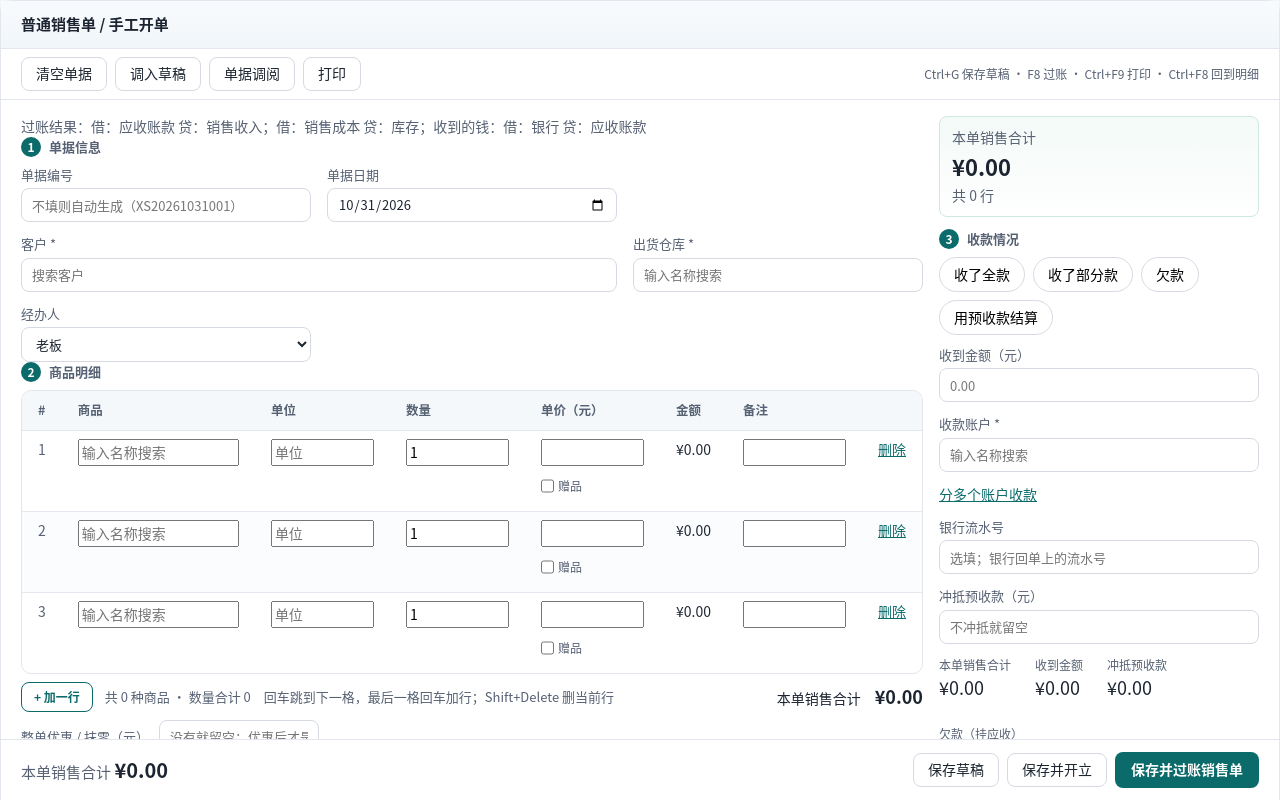
Test: 往来余额与行提示 › 选了客户显示应收、预收和赊销额度；挂账后超额给提醒
Step 1. Focus the field labelled "客户" → (319,274), box 21,258 -> 617,292
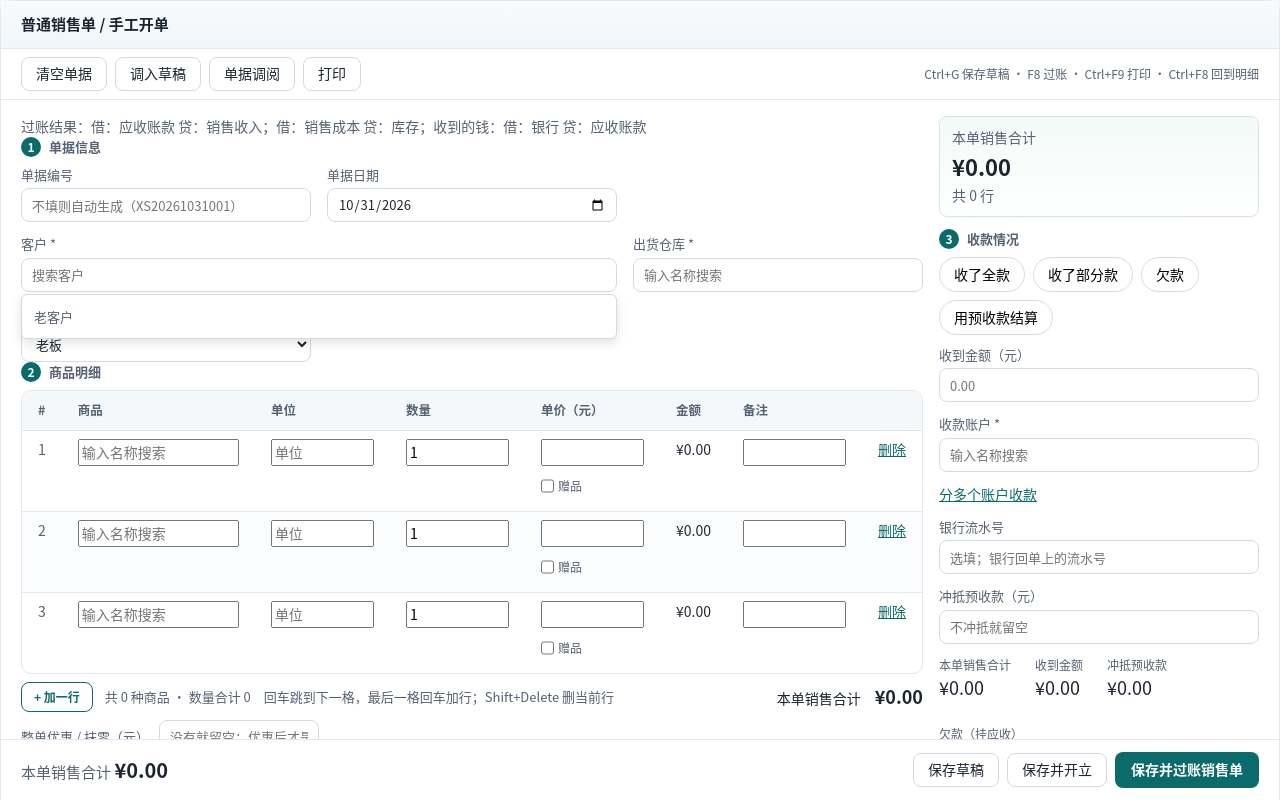
Step 2. Click the option "老客户" → (54,316), box 34,302 -> 604,330
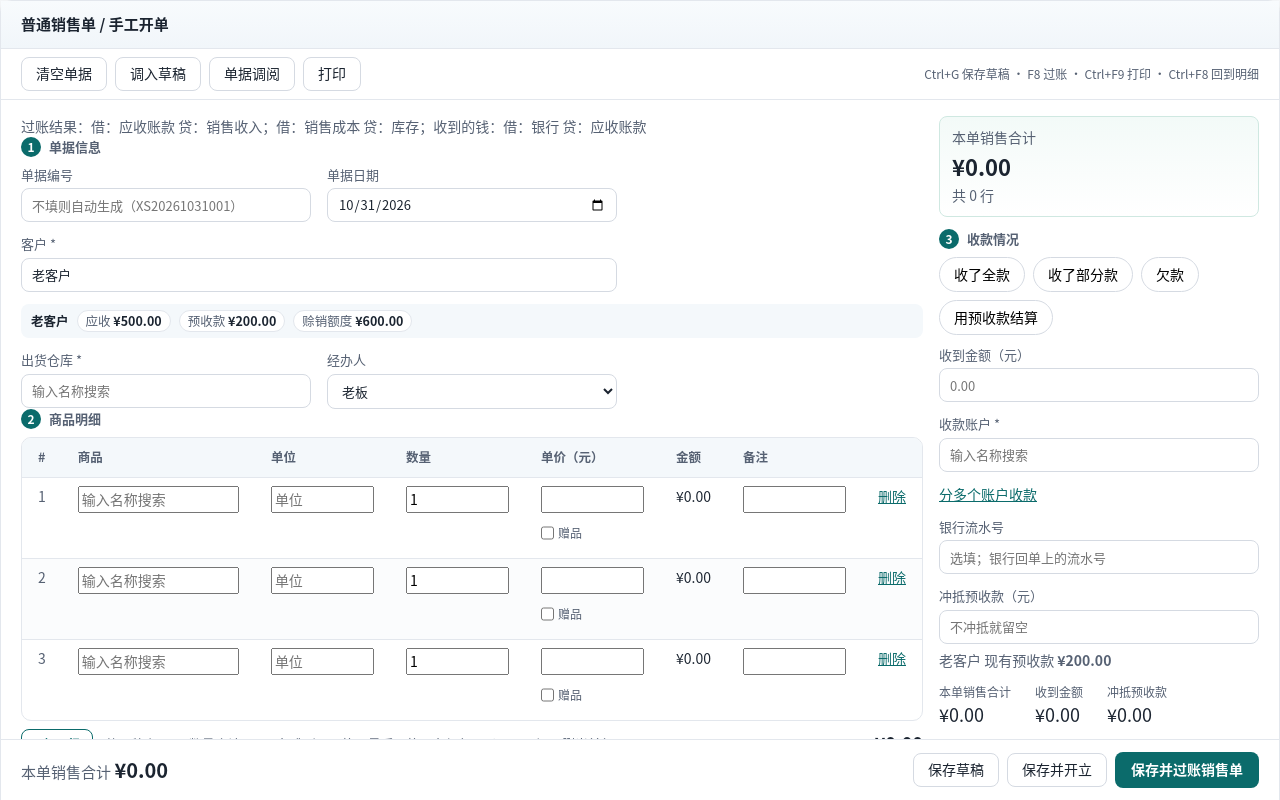
Expected: the element named "往来余额" shows "应收", 86,310 -> 110,330
Expected: the element named "往来余额" shows "¥500.00", 113,310 -> 162,330
Expected: the element named "往来余额" shows "预收款", 188,310 -> 225,330
Step 3. Focus the 1st field with placeholder "输入名称搜索" → (158,499), box 78,486 -> 239,512
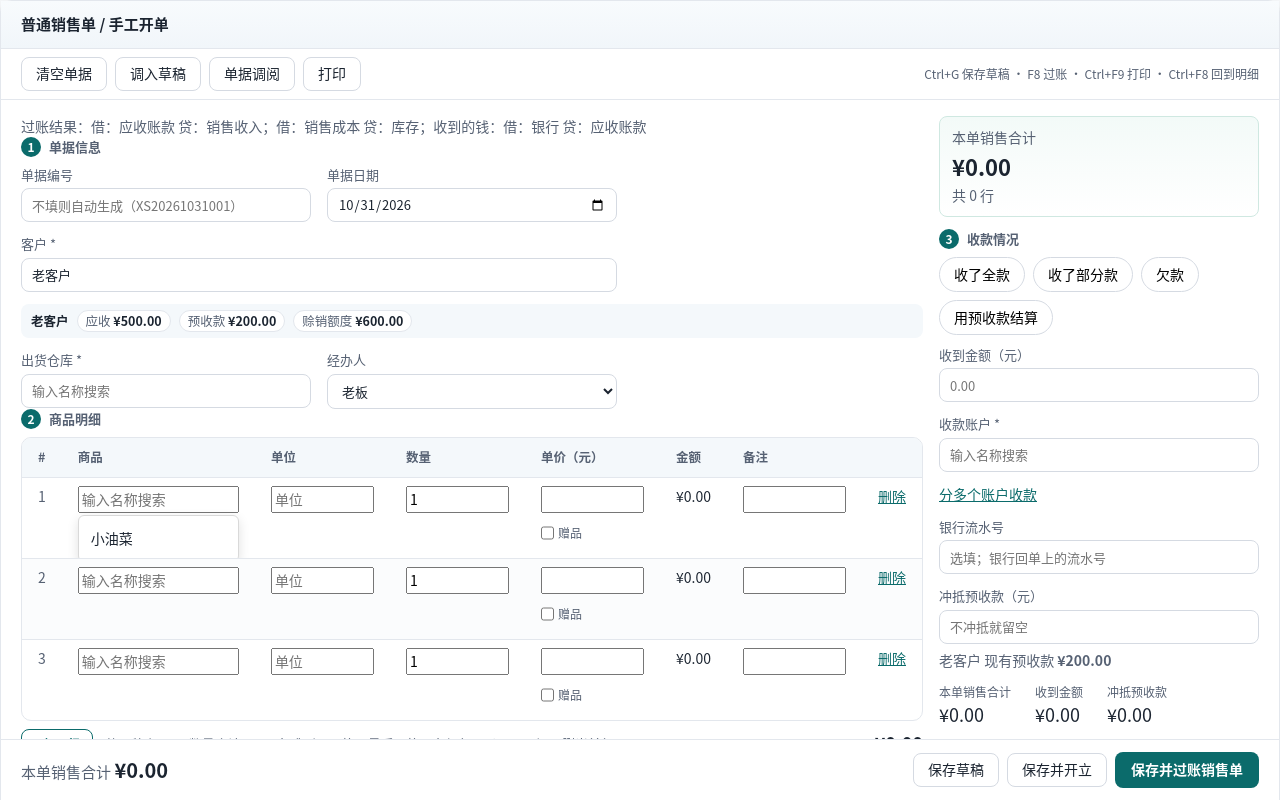
Step 4. Click the option "小油菜" → (158,538), box 91,524 -> 226,552
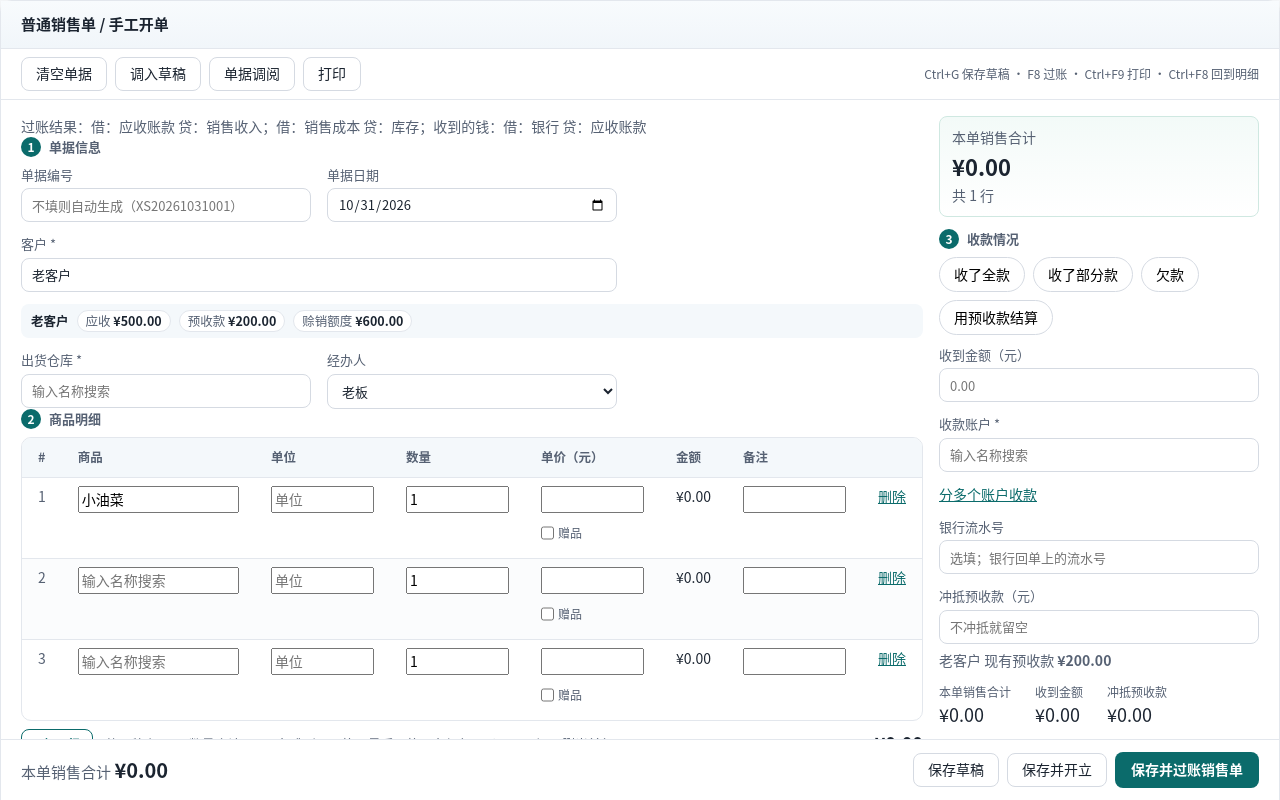
Step 5. Type "200" into the field named "第1行单价" → (592,499), box 541,486 -> 644,512
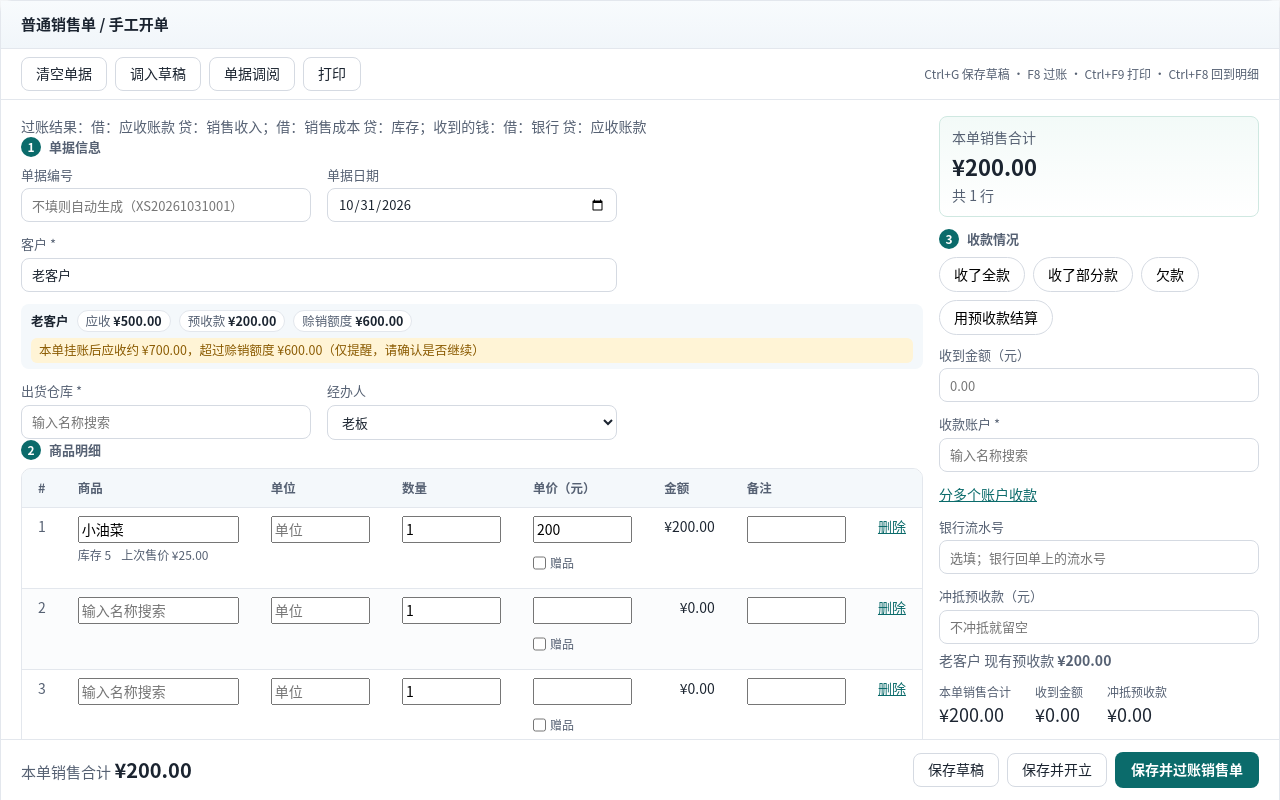
Expected: the message shows "超过赊销额度", 187,340 -> 277,359
